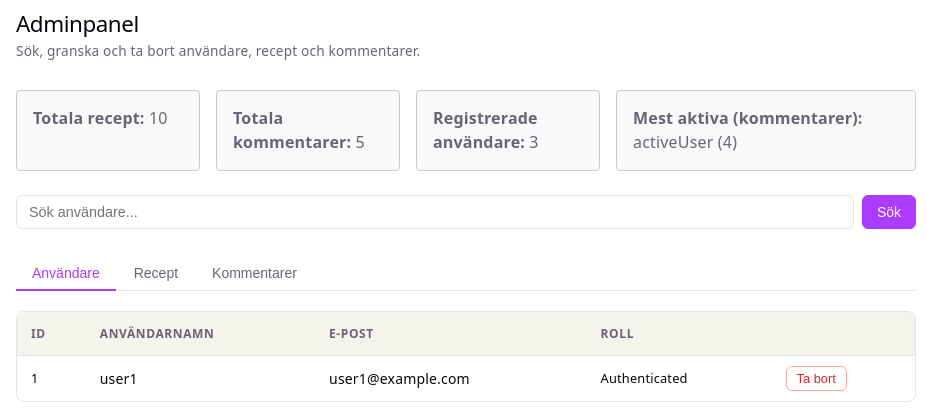
Test: AdminPage Component › loads users list by default and allows tab switching
Expected: the text "user1" is shown, left=86, top=356, right=315, bottom=401
Expected: the text "user1@example.com" is shown, left=315, top=356, right=586, bottom=401
Note: Switch to Recipes tab
Click the tab "Recept": (156, 274) left=118, top=257, right=194, bottom=291
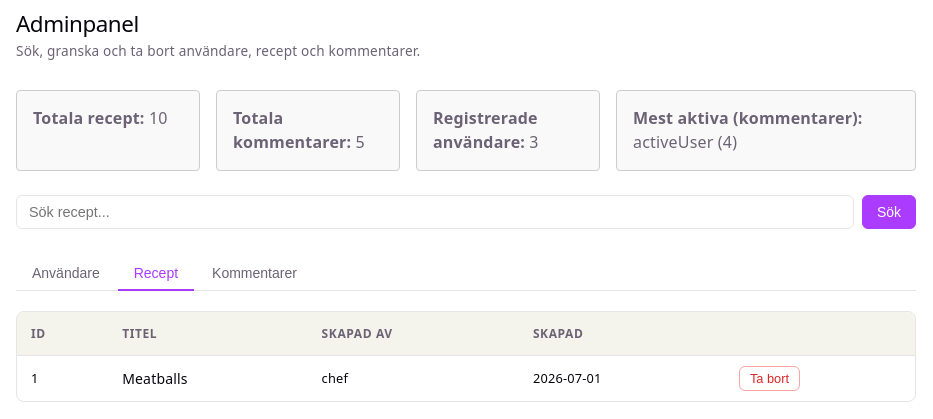
Now the text "Meatballs" is shown, box left=108, top=356, right=308, bottom=401
Now the text "chef" is shown, box left=308, top=356, right=519, bottom=401
